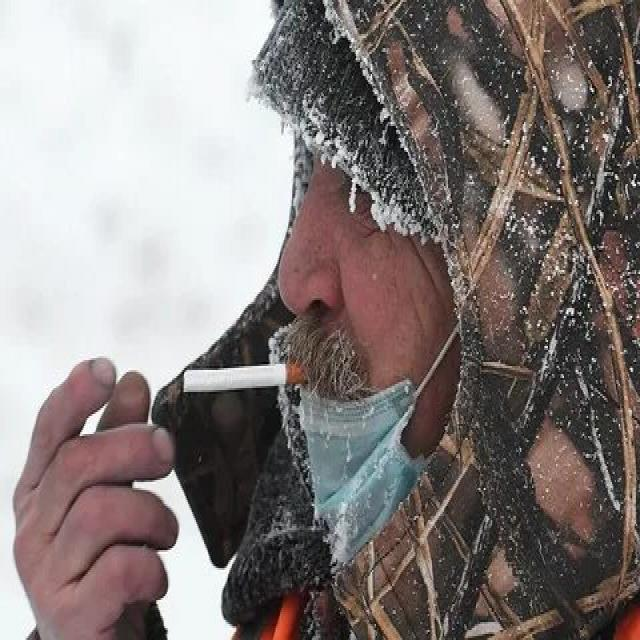cigarette: (178, 362, 314, 402)
